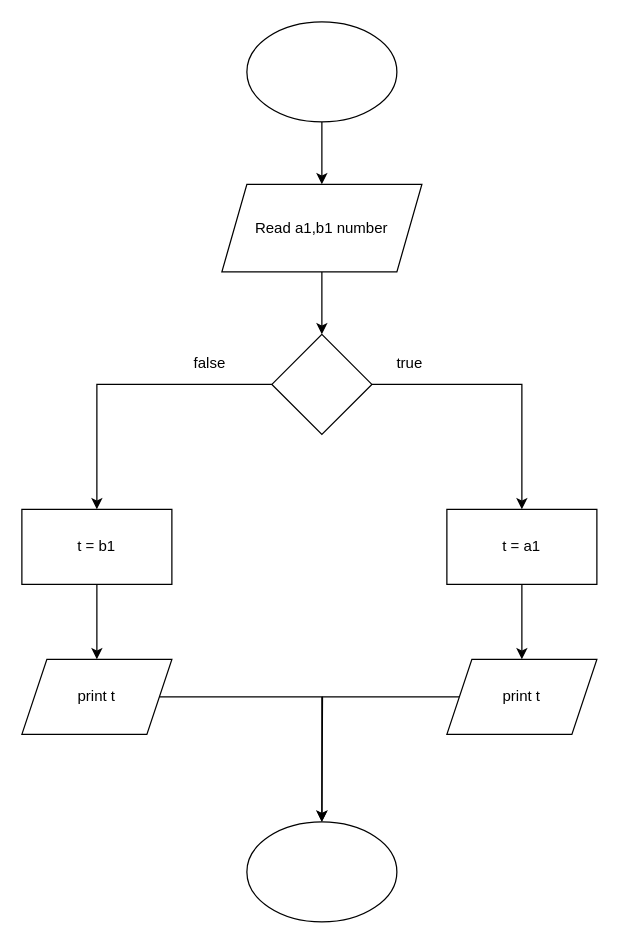
Some shapes in this 619 by 944 pixel diagram are drawn without their labels. Here are the shapes that lost their labels. From the top down, the centre of each, then its label:
At [321,71]: "Start".
At [321,383]: "if a1<b1".
At [321,871]: "End".
